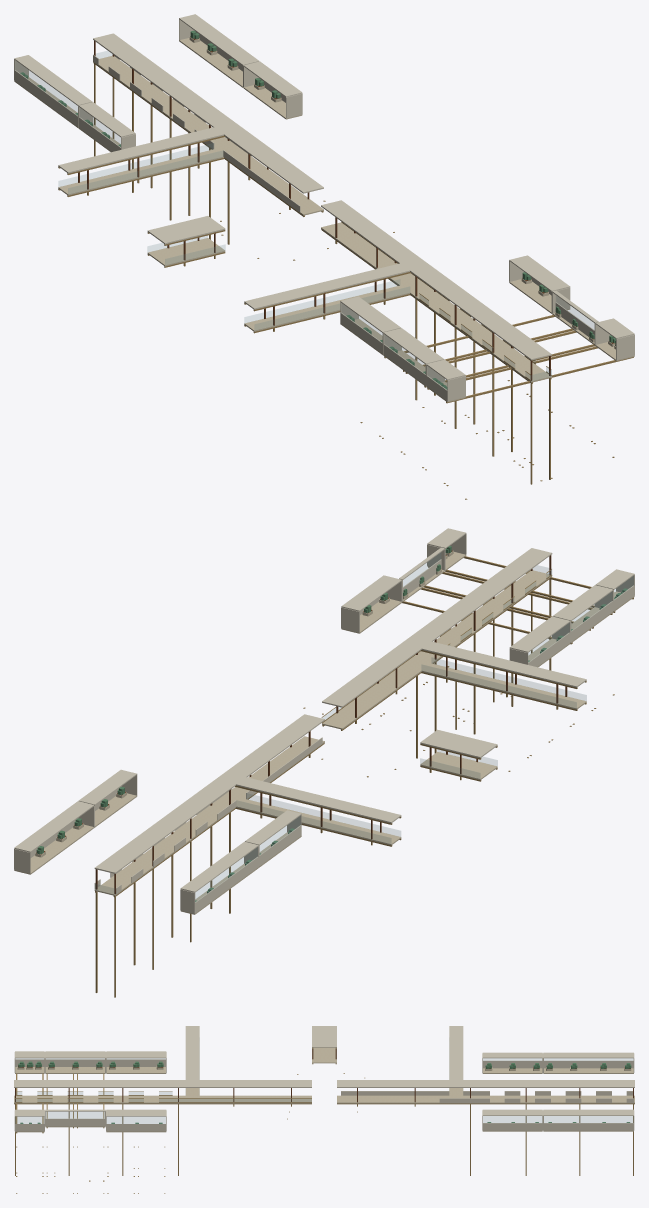
Rendered from D04_STARBOARD_CENTRAL_COMBINEDSTRUCTURE_r001.glb.
3 views of the same model, one above another, from view 1: azimuth 30°, elevation 25°; view 2: azimuth 150°, elevation 25°; view 3: azimuth 270°, elevation 25° (orthographic). The views are drawn at different scales.
Visible parts, largest first — view 1: SC_ReceivingRoof_0, SC_ReceivingRoof_1, SC_ReceivingFloor_1, SC_ReceivingFloor_0, SC_ReceivingRoof_2, SCK_D04HC5_west_Roof, SC_ReceivingFloor_2, SCK_D04HC5_east_Roof, SC_ArrivalGuard-30.3, SC_ArrivalGuard30.3, SC_ArrivalGuard-33.7, SCK_D04HC_west_Roof (+7 smaller); view 2: SC_ReceivingRoof_1, SC_ReceivingRoof_0, SC_ReceivingFloor_1, SC_ReceivingFloor_0, SC_ReceivingRoof_2, SCK_D04HC5_west_Roof, SC_ReceivingFloor_2, SCK_D04HC5_east_Roof, SC_ArrivalGuard30.3, SC_ArrivalGuard33.7, SC_ArrivalGuard-30.3, SCK_D04HC_west_Roof (+7 smaller); view 3: SC_ReceivingRoof_0, SC_ReceivingRoof_1, SC_ReceivingFloor_1, SC_ReceivingFloor_0, SCK_D04HC5_west_PrivacyScreen, SCK_D04HC5_east_PrivacyScreen, SCK_D04HC5_west_Roof, SCK_D04HC5_east_Roof, SCK_D04HC5_west_GlassUpper, SC_StreetLong_85.85_0, SC_StreetLong_85.85_1, SC_ReceivingRoof_2 (+23 smaller).
Part boxes in pixels (x1,y1,x2,y2): SC_ReceivingRoof_0: (58, 33, 323, 193); SC_ReceivingRoof_1: (244, 200, 551, 360); SC_ReceivingFloor_1: (244, 222, 551, 382); SC_ReceivingFloor_0: (58, 55, 323, 215); SC_ReceivingRoof_2: (147, 216, 225, 244); SCK_D04HC5_west_Roof: (179, 14, 259, 65); SC_ReceivingFloor_2: (147, 238, 225, 266); SCK_D04HC5_east_Roof: (14, 55, 92, 105); SC_ArrivalGuard-30.3: (68, 151, 222, 193); SC_ArrivalGuard30.3: (244, 279, 399, 322); SC_ArrivalGuard-33.7: (58, 143, 213, 186); SCK_D04HC_west_Roof: (509, 255, 570, 291); SC_ReceivingRoof_1: (322, 548, 586, 707); SC_ReceivingRoof_0: (94, 714, 401, 873); SC_ReceivingFloor_1: (322, 570, 586, 729); SC_ReceivingFloor_0: (94, 736, 401, 895); SC_ReceivingRoof_2: (420, 729, 497, 758); SCK_D04HC5_west_Roof: (14, 801, 94, 852); SC_ReceivingFloor_2: (420, 751, 497, 780); SCK_D04HC5_east_Roof: (180, 841, 258, 892); SC_ArrivalGuard30.3: (421, 665, 576, 707); SC_ArrivalGuard33.7: (431, 657, 586, 700); SC_ArrivalGuard-30.3: (246, 793, 400, 836); SCK_D04HC_west_Roof: (341, 575, 401, 611); SC_ReceivingRoof_0: (337, 1026, 634, 1087); SC_ReceivingRoof_1: (14, 1026, 311, 1087); SC_ReceivingFloor_1: (14, 1088, 311, 1103); SC_ReceivingFloor_0: (337, 1088, 634, 1103); SCK_D04HC5_west_PrivacyScreen: (543, 1123, 633, 1130); SCK_D04HC5_east_PrivacyScreen: (544, 1060, 633, 1068); SCK_D04HC5_west_Roof: (543, 1109, 633, 1115); SCK_D04HC5_east_Roof: (543, 1052, 633, 1058); SCK_D04HC5_west_GlassUpper: (544, 1116, 633, 1122); SC_StreetLong_85.85_0: (337, 1103, 634, 1104); SC_StreetLong_85.85_1: (14, 1103, 311, 1104); SC_ReceivingRoof_2: (312, 1026, 336, 1047).
Size of the model in its own units: 51.6 by 24.17 by 151.
7 materials, 4 textured.
